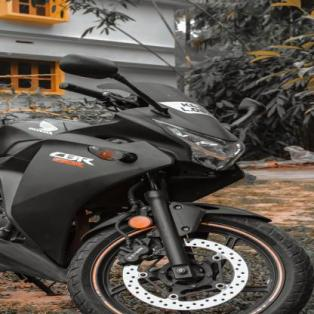Motocicleta: (3, 51, 314, 314)
